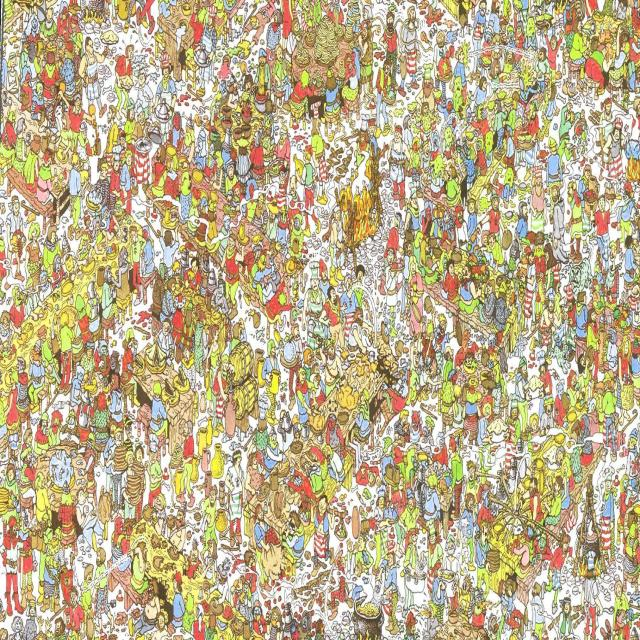waldo: (277, 160, 287, 185)
